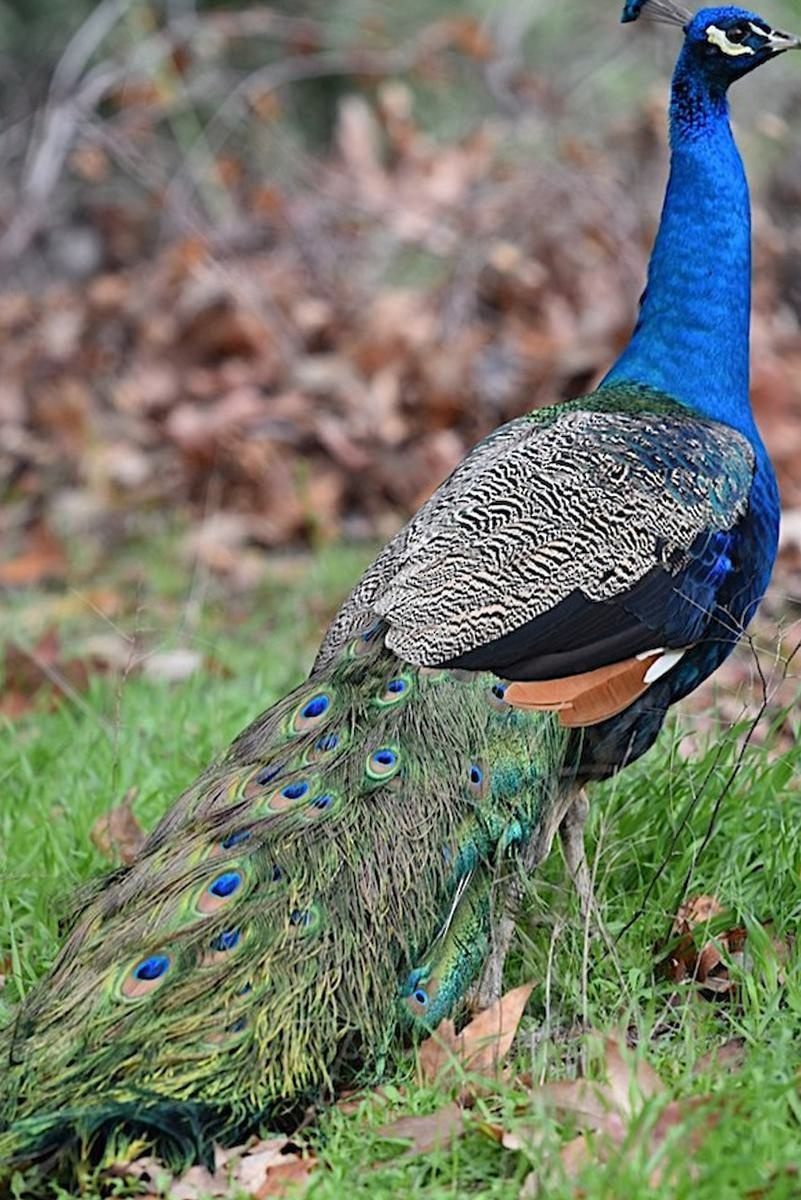peacock: (57, 9, 800, 1199)
